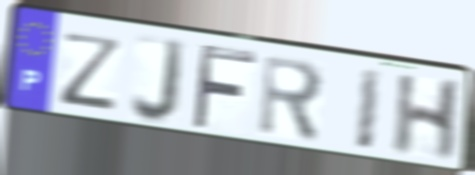F: (189, 40, 260, 133)
H: (389, 72, 466, 164)
I: (353, 65, 385, 153)
J: (128, 35, 188, 127)
R: (257, 52, 328, 147)
Z: (60, 29, 126, 113)
